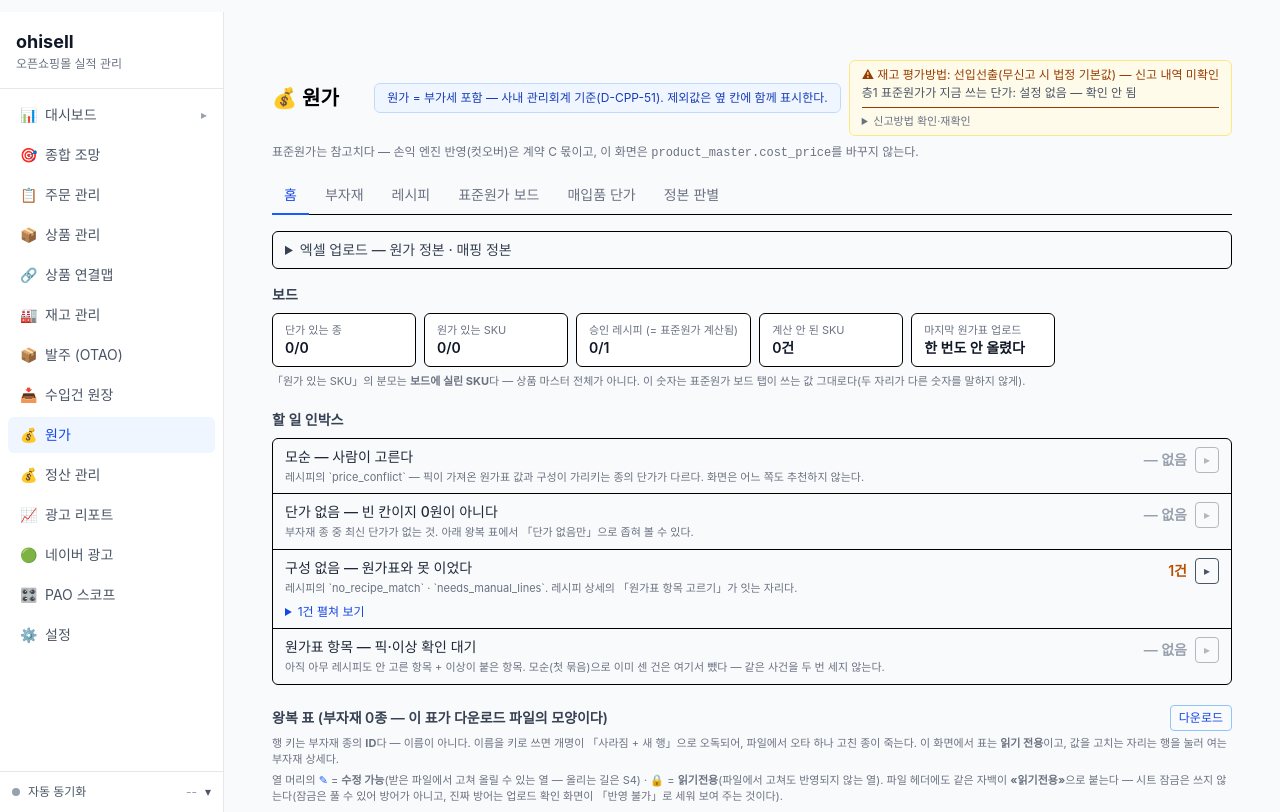
Test: ★원가표 픽이 사람에게 닿는 경로 — 라우트·페이지·호출부가 한 줄로 이어진다 › PICK-6: 「원가표 목록 보기」를 누르면 목록이 실제로 온다 (합격 18)
Expected: the heading "💰 원가" is shown, [272,84,339,112]
Click the button "레시피": (411, 196) [380,177,442,215]
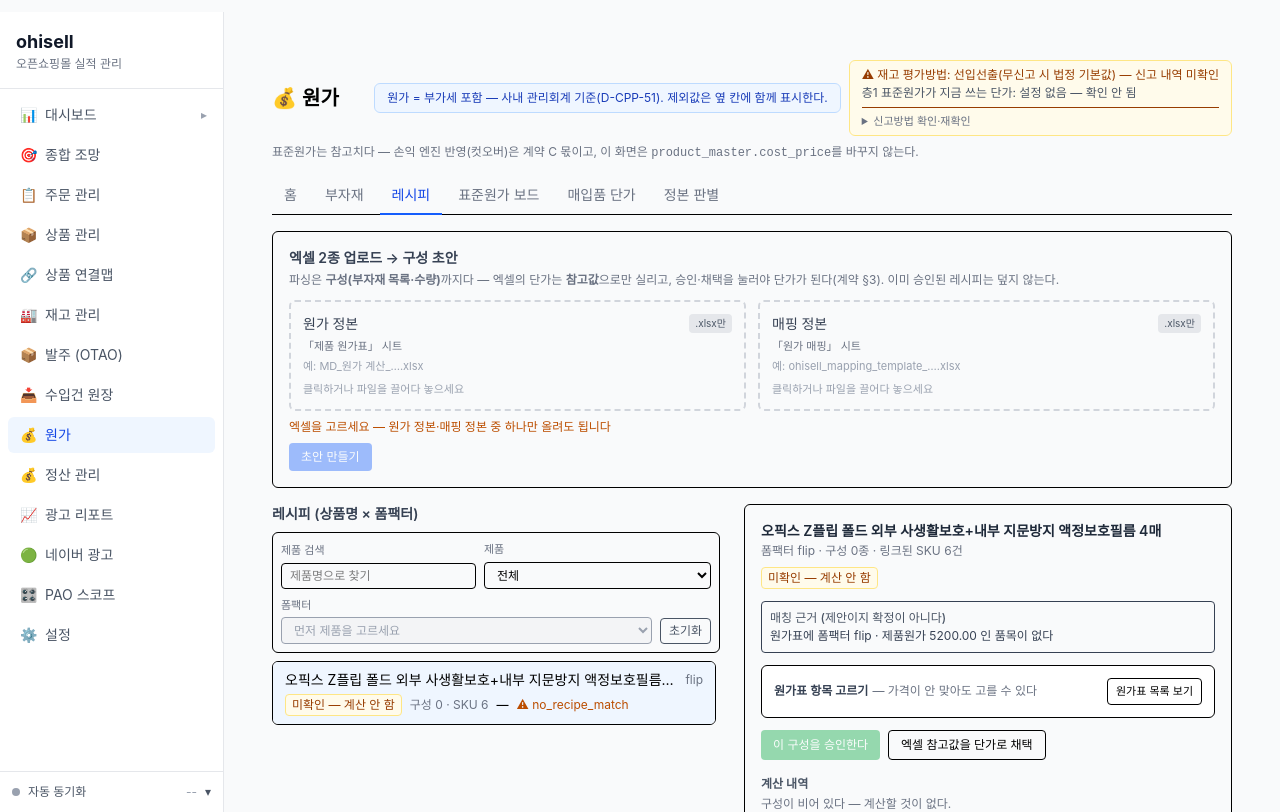
Click the button with test id "picker-load": (1154, 691) [1107,678,1202,705]
(page scrolled)
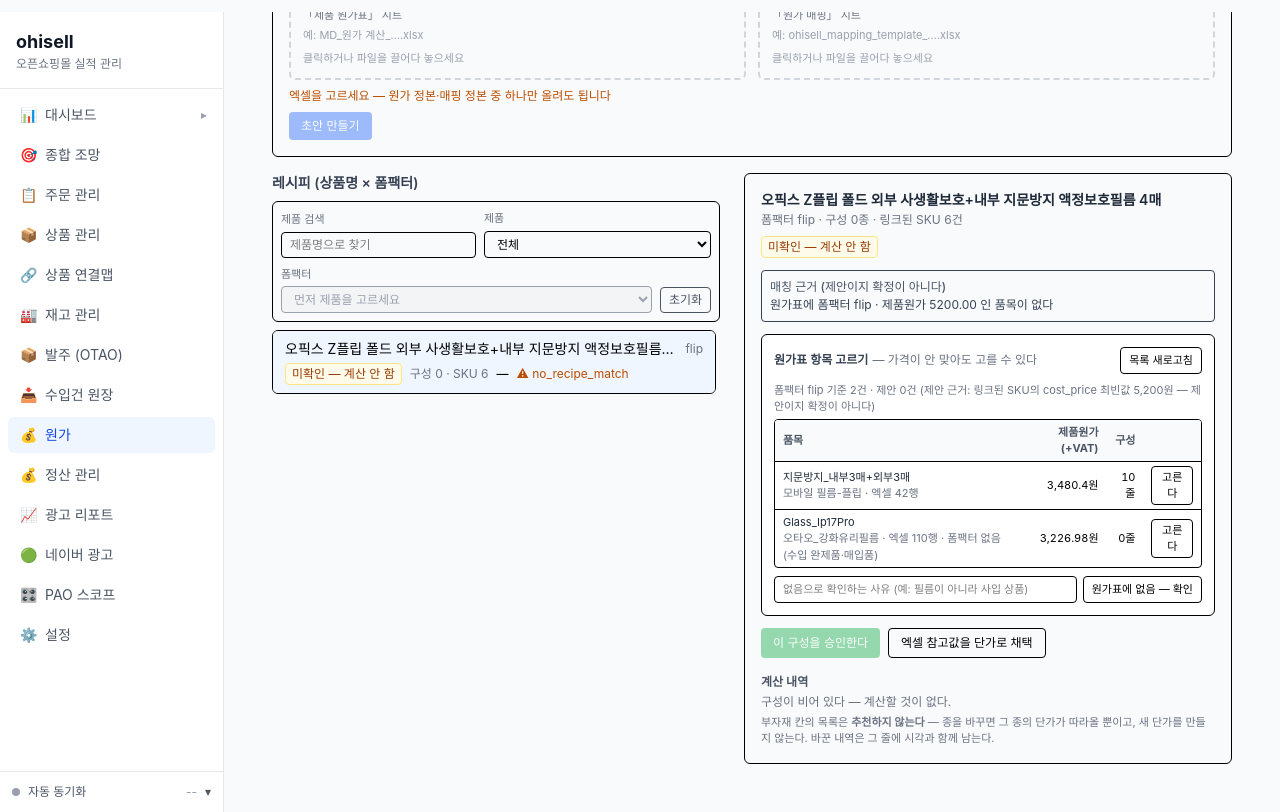
Expected: the text "지문방지_내부3매+외부3매" is shown, [783,470,910,484]
Expected: the text with test id "picker-summary" shows "제안 0건", [774,382,1202,415]
Expected: the text "오타오_강화유리필름 · 엑셀 110행 · 폼팩터 없음(수입 완제품·매입품)" is shown, [783,530,1014,563]
